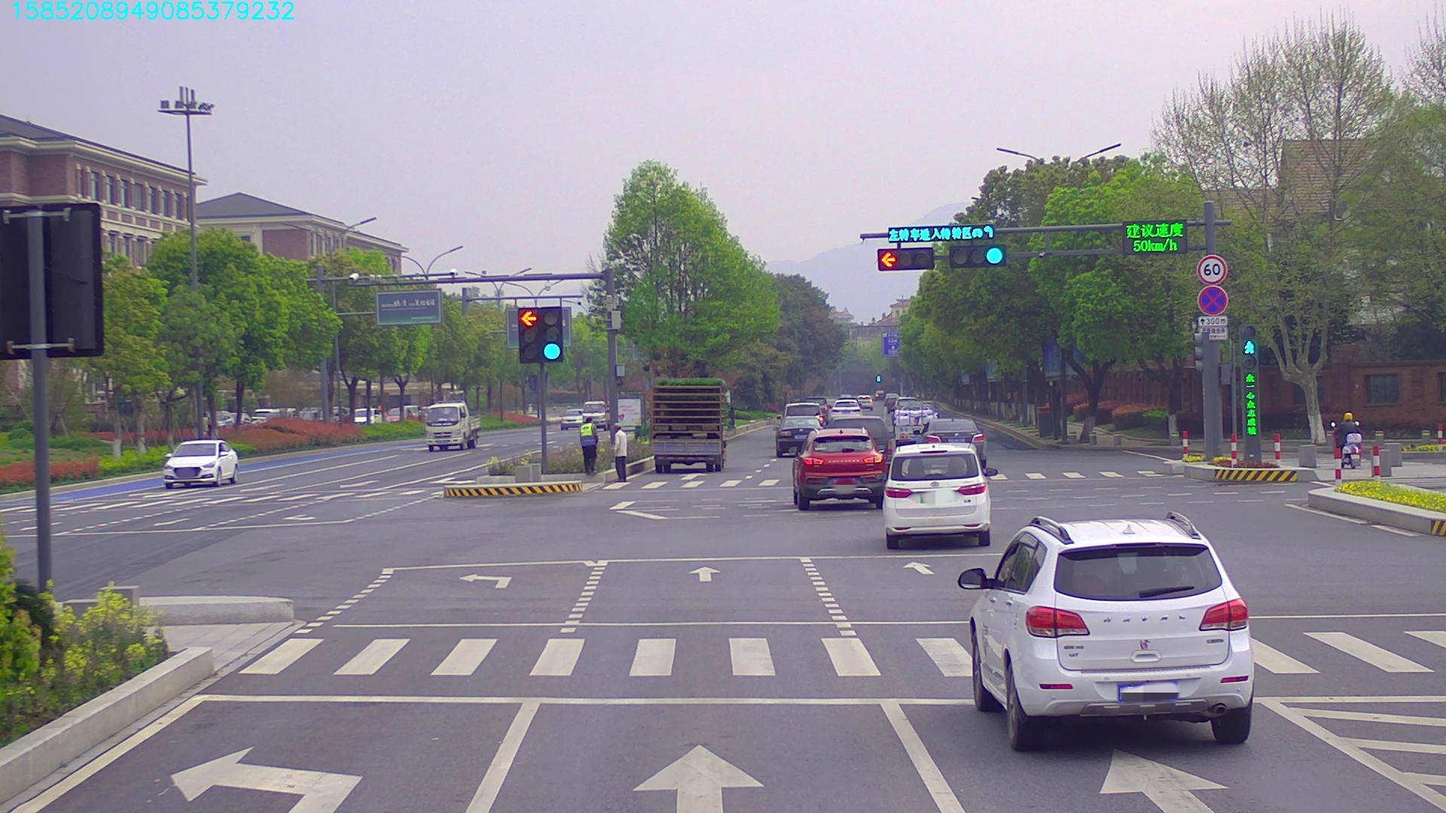green: (952, 247, 999, 269)
red: (877, 251, 928, 268)
wait_on: (886, 226, 999, 242)
